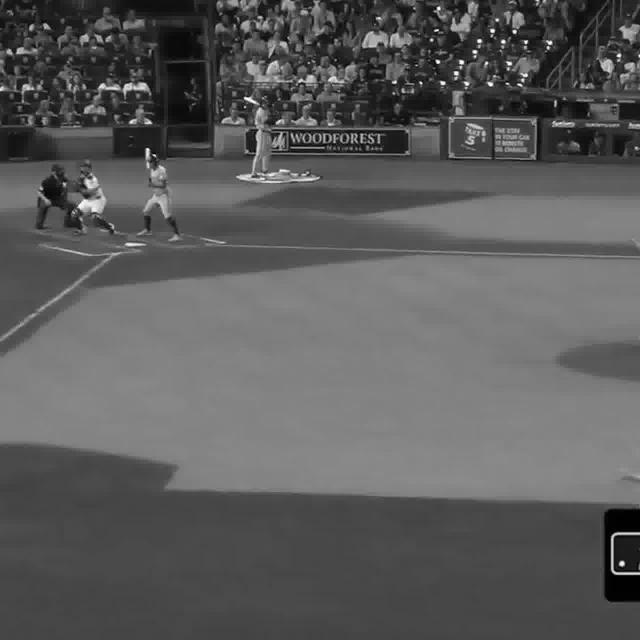base: (124, 241, 146, 248)
baseball_glove: (66, 178, 82, 192)
bat: (240, 94, 276, 120), (145, 145, 155, 183)
shoe: (74, 226, 86, 237), (163, 235, 181, 242), (138, 230, 152, 238)
